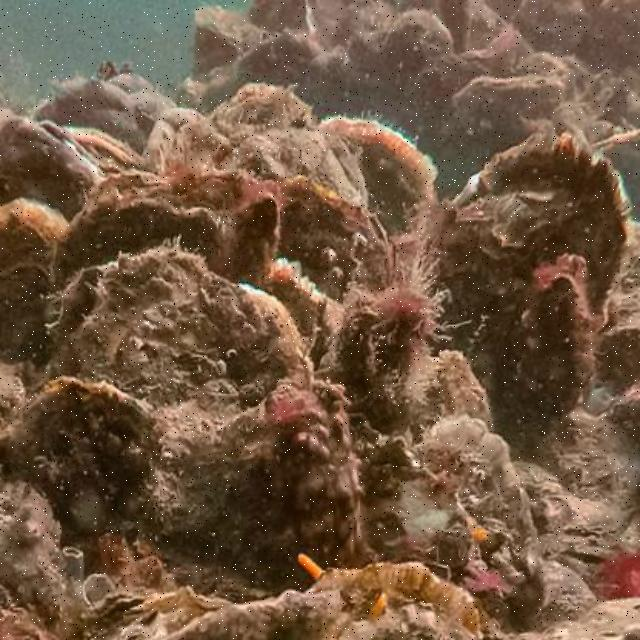Oyster-Closed: (72, 247, 305, 414), (456, 137, 632, 336), (59, 178, 283, 323), (0, 380, 166, 570), (220, 383, 365, 594), (414, 421, 539, 623), (316, 114, 436, 283), (420, 197, 551, 351), (512, 254, 601, 411), (311, 560, 485, 640), (0, 202, 62, 351), (450, 73, 562, 150), (179, 590, 347, 640), (257, 130, 356, 200), (34, 80, 145, 139), (206, 83, 309, 141), (383, 12, 453, 83), (595, 327, 640, 395), (198, 4, 269, 46)
Oyster-Open: (0, 113, 99, 216)
